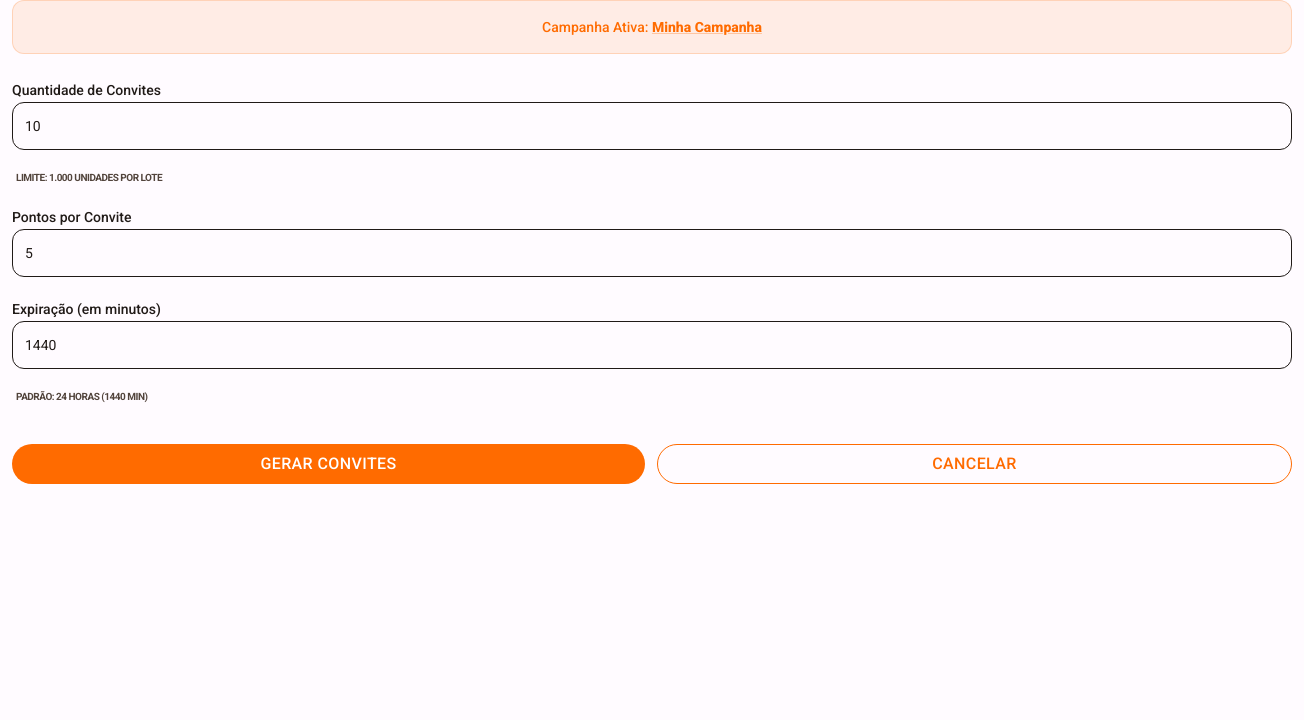
Test case: GenerateInvitationsForm › deve mostrar erros de validação para valores inválidos
Type "0" into the number field labelled "Quantidade de Convites" at (652, 126), box [12, 102, 1292, 150]
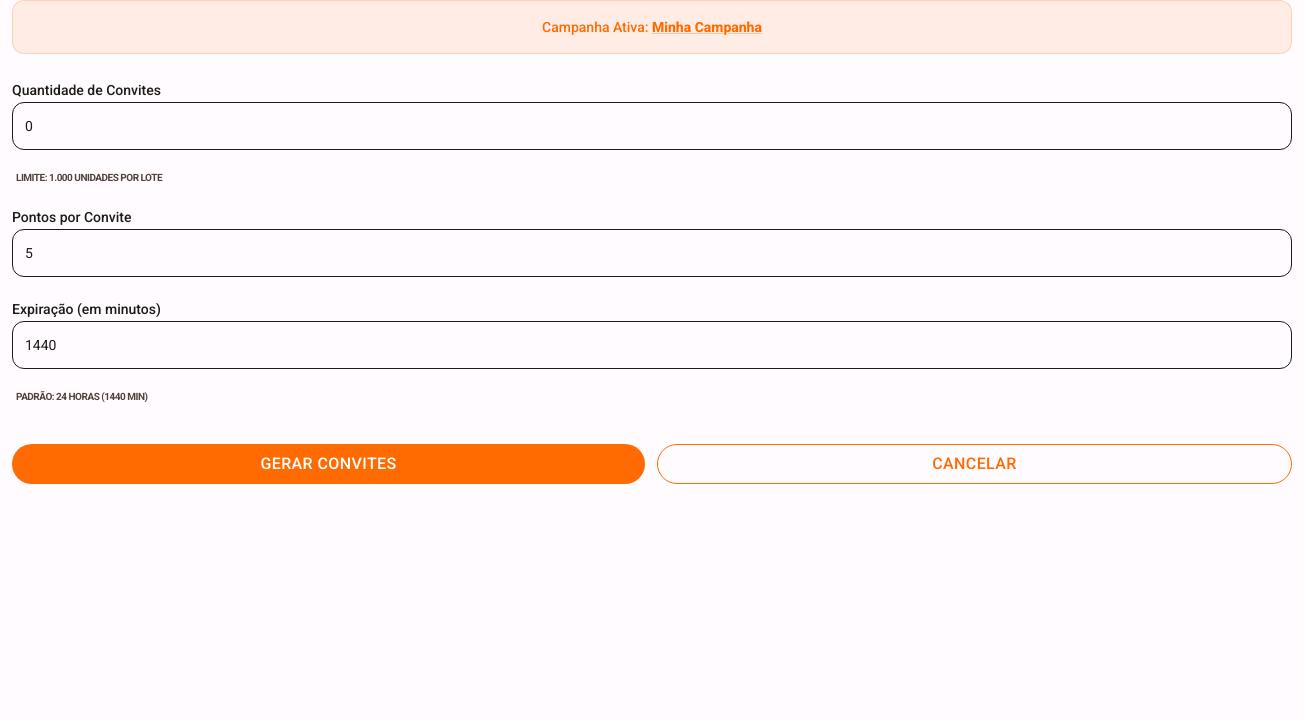
Click the button "GERAR CONVITES" at (328, 464), box [12, 444, 645, 484]
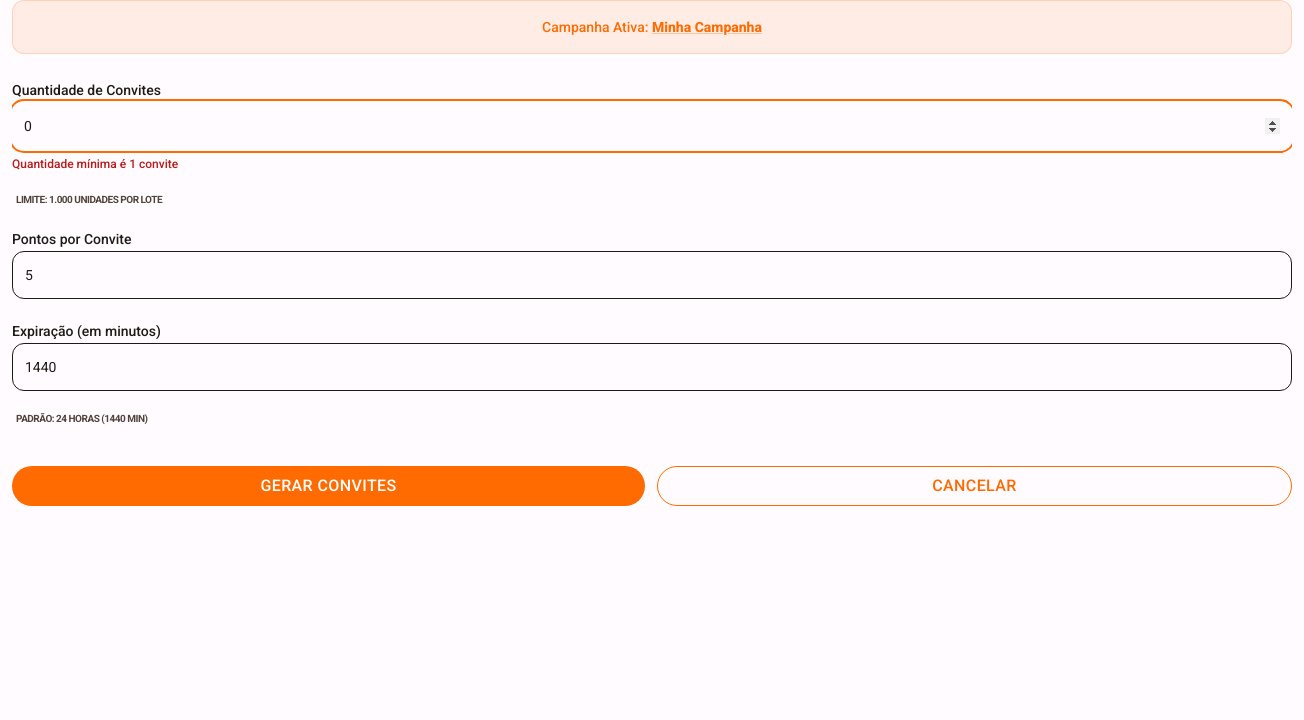
Now the text "Quantidade mínima é 1 convite" is shown, box [12, 157, 178, 171]
